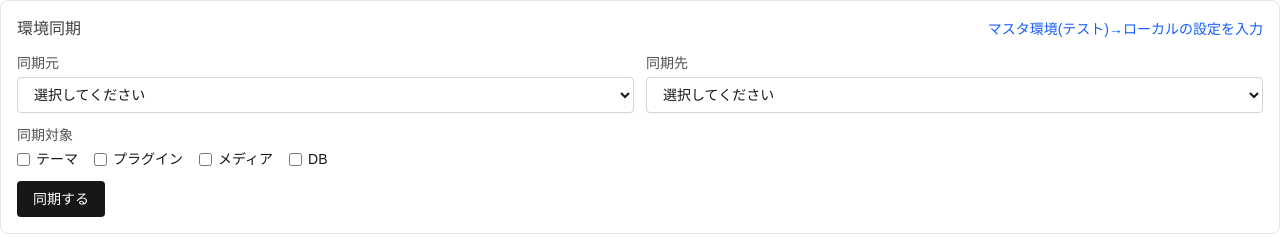
Scenario: EnvironmentSyncPanel SSH管理サイト(issue #511) › SSH管理サイトを同期元に選ぶとプラグイン以外の同期対象は無効化されない
Select "本番" in the dropdown labelled "同期元" at coordinates (326, 95), box [17,77,634,113]
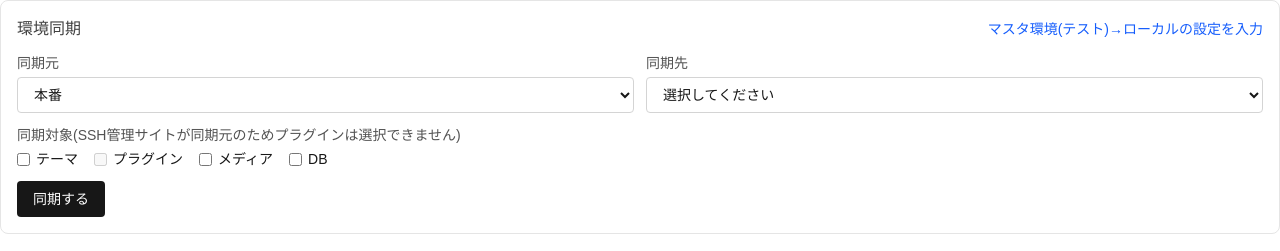
Expected: the checkbox labelled "テーマ" is enabled, [17,152,30,166]
Expected: the checkbox labelled "プラグイン" is disabled, [94,152,107,166]
